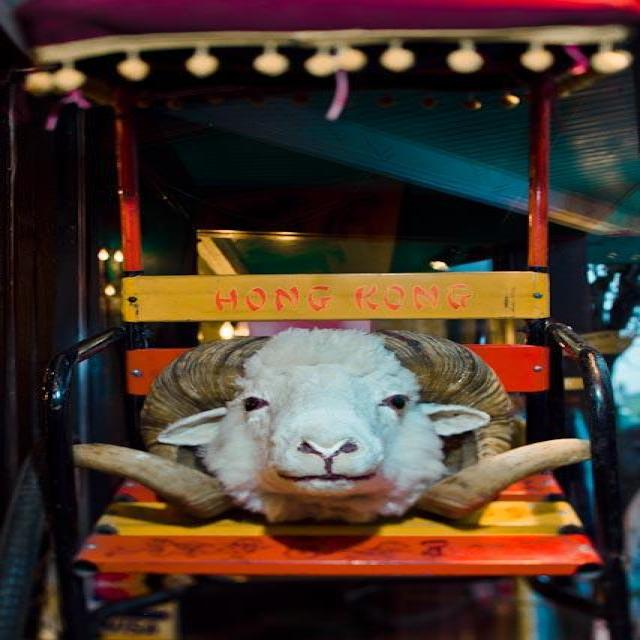Sheep: (75, 328, 599, 528)
